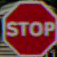Stop: (5, 6, 53, 47)
